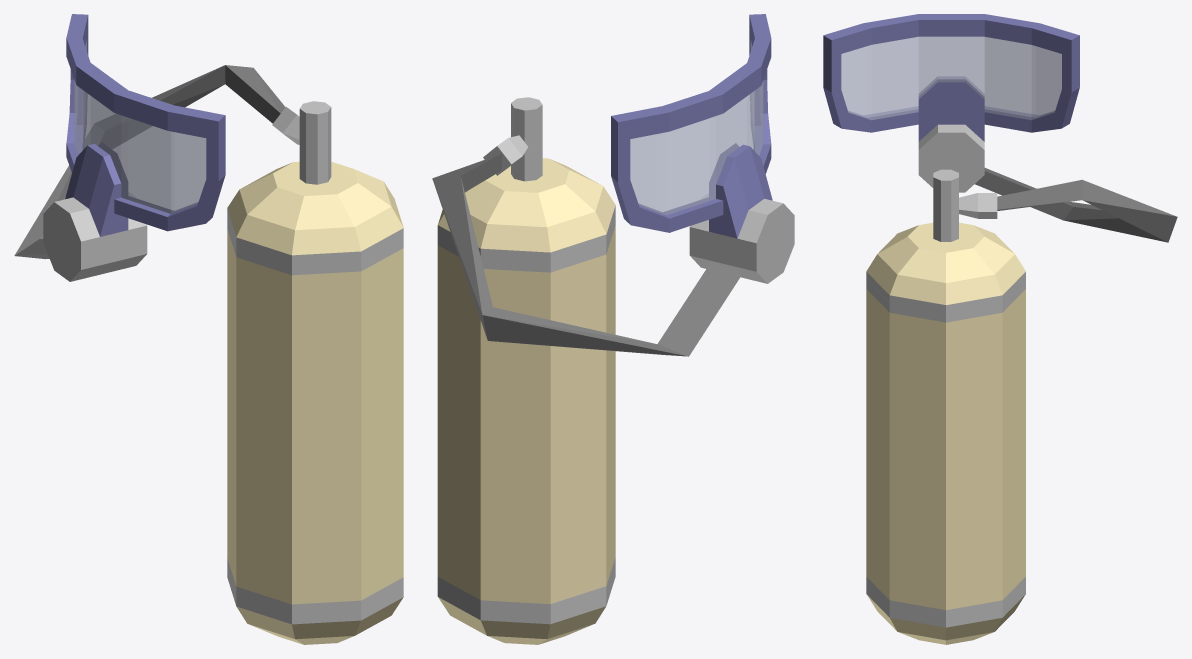
The model's file is ScubaTank.fbx.
3 renders of one model, left to right at view 1: azimuth 30°, elevation 25°; view 2: azimuth 150°, elevation 25°; view 3: azimuth 270°, elevation 25°, orthographic. The views are drawn at different scales.
Visible parts, largest first — view 1: ScubaTank; view 2: ScubaTank; view 3: ScubaTank.
Part boxes in pixels (x1,y1,x2,y2): ScubaTank: (14,14,403,644); ScubaTank: (432,14,794,644); ScubaTank: (823,14,1177,644).
Bounding box in the file's own units: 0.1728 × 0.2997 × 0.1843.
